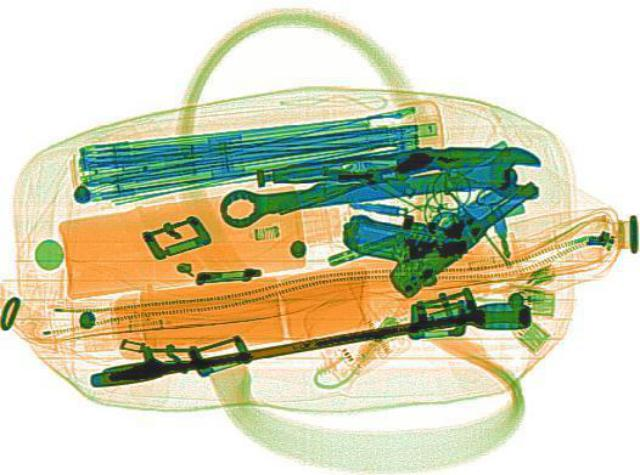Gun: (318, 133, 546, 296)
Wrench: (82, 296, 536, 393), (211, 142, 545, 229)
